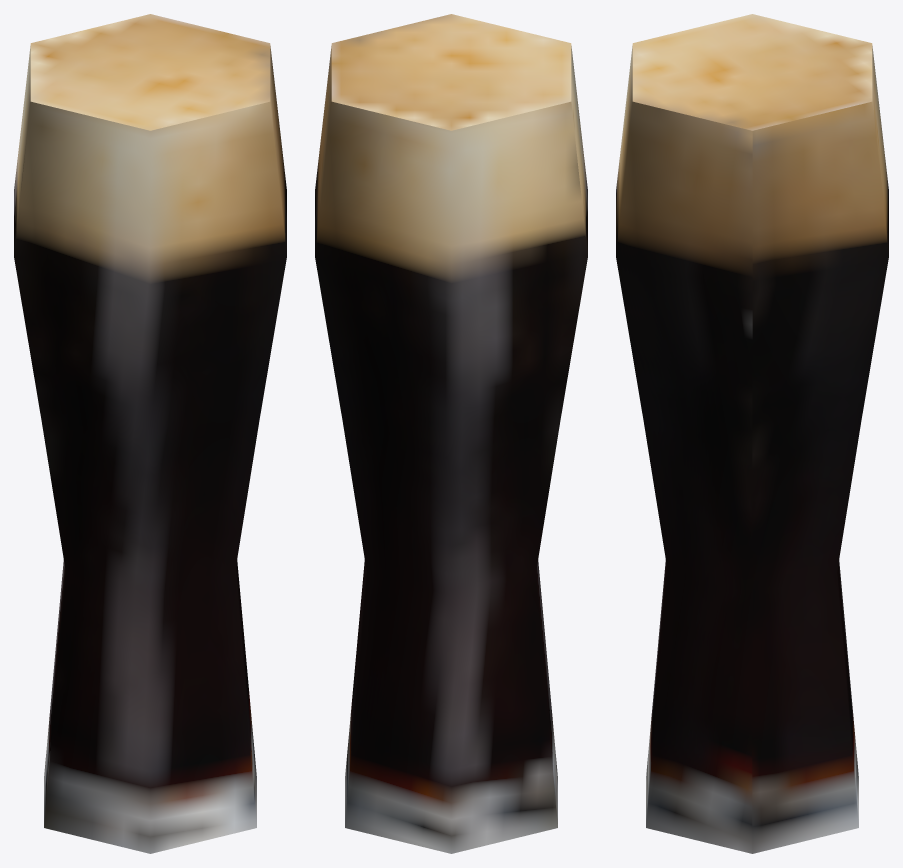
Rendered from BeerPorterInGlassV1.fbx.
3 renders of one model, left to right at view 1: azimuth 30°, elevation 25°; view 2: azimuth 150°, elevation 25°; view 3: azimuth 270°, elevation 25°, orthographic.
Visible parts, largest first — view 1: Beer&Wine.007; view 2: Beer&Wine.007; view 3: Beer&Wine.007.
Boxes of the visible parts, left/top/right/bottom form: Beer&Wine.007: left=14, top=14, right=286, bottom=853; Beer&Wine.007: left=315, top=14, right=587, bottom=853; Beer&Wine.007: left=616, top=14, right=888, bottom=853.
Size of the model in its own units: 0.1076 by 0.2749 by 0.0932.
